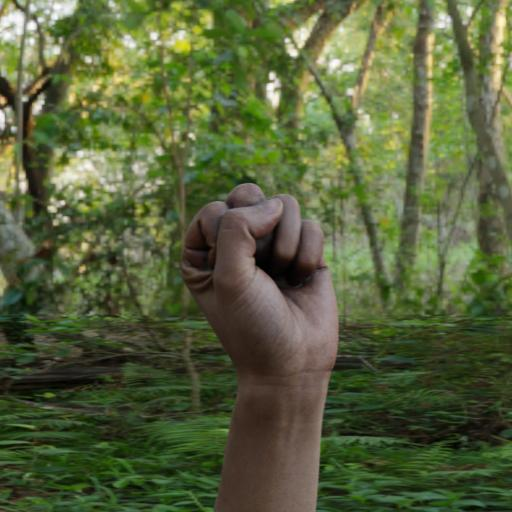S: (154, 172, 372, 409)
